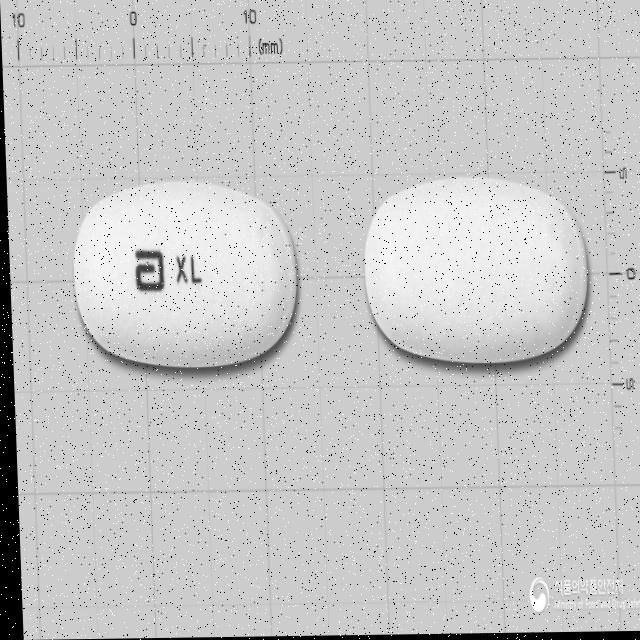Klaricid-Xl: (67, 179, 299, 371)
